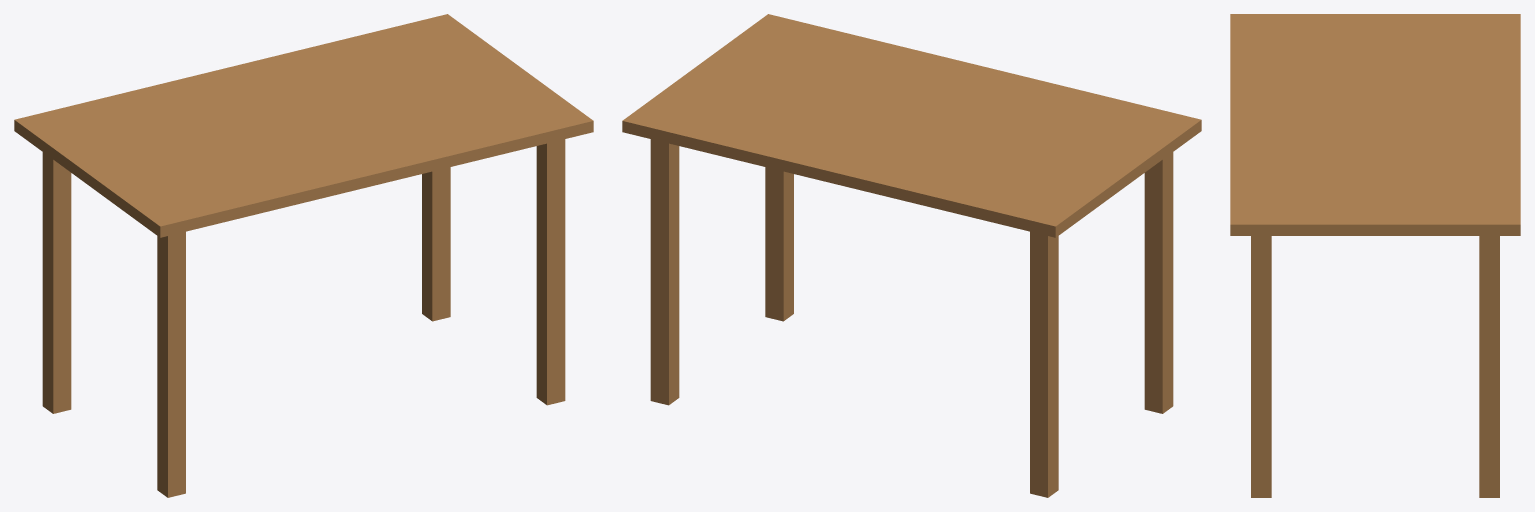
3 renders of one model, left to right at view 1: azimuth 30°, elevation 25°; view 2: azimuth 150°, elevation 25°; view 3: azimuth 270°, elevation 25°, orthographic.
Size of the model in its own units: 1.2 by 0.75 by 0.7.
